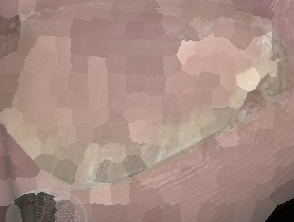Nail_psoriasis: (0, 3, 294, 198)
